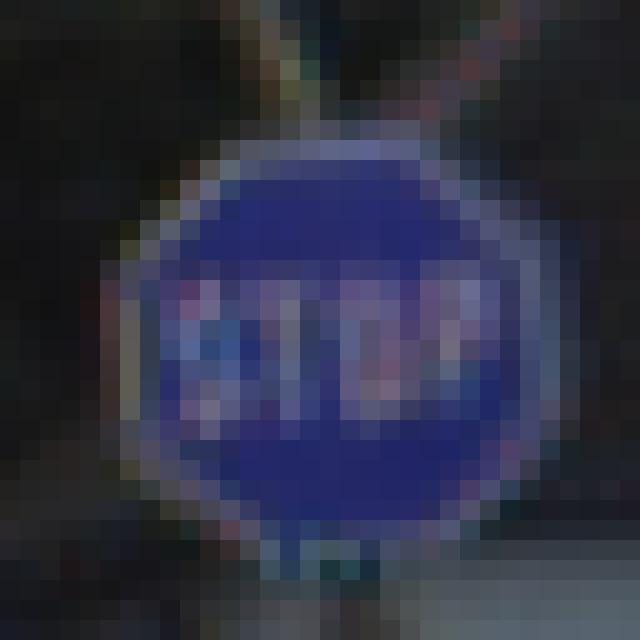STOP: (132, 154, 523, 538)
